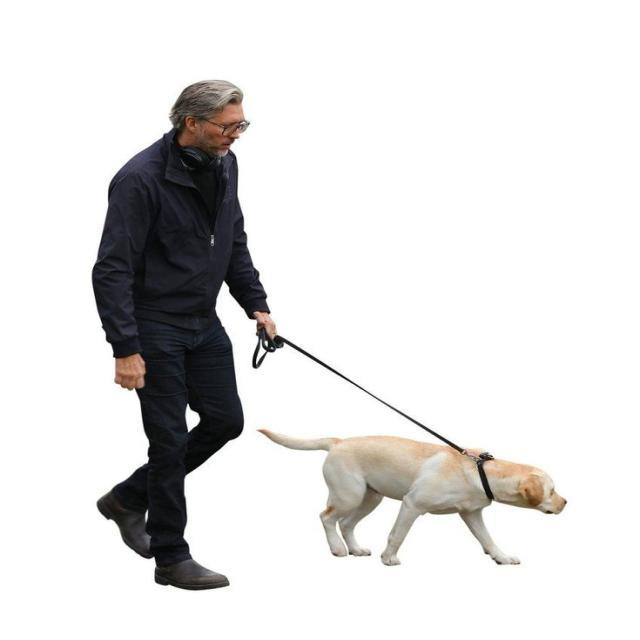person: (90, 79, 278, 590)
